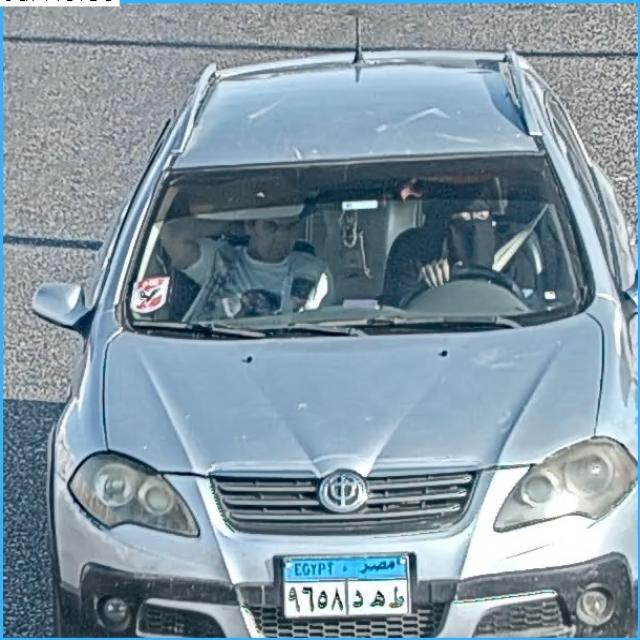windshield: (122, 158, 590, 324)
